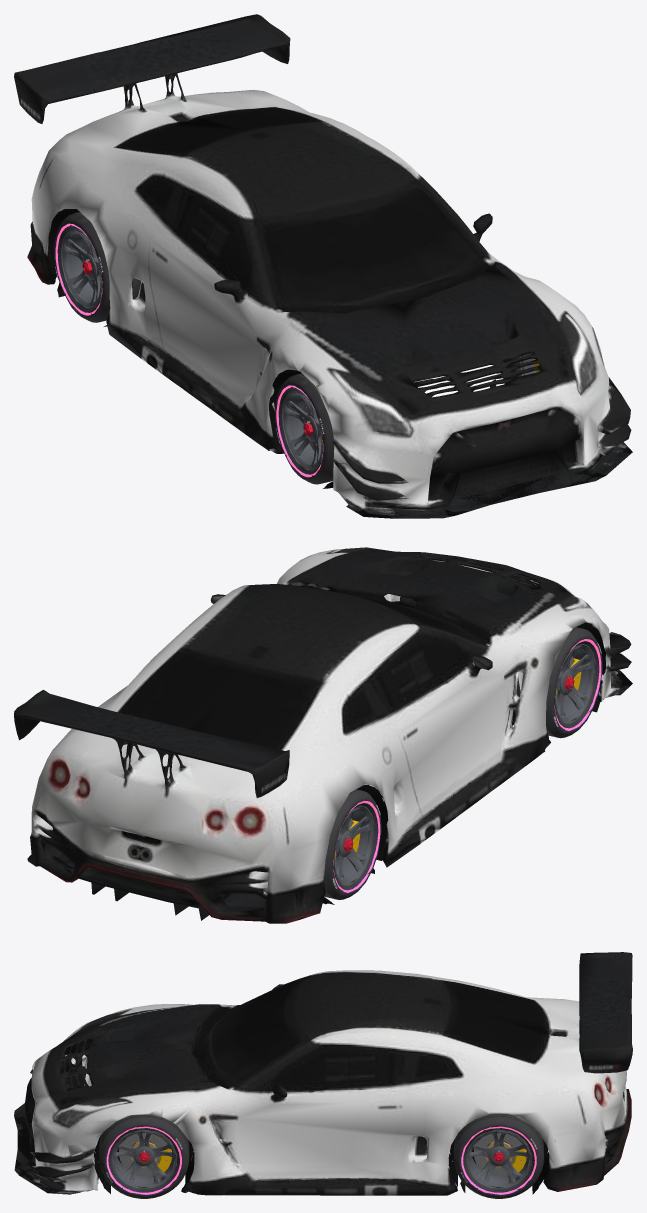
The model's file is gtr.glb.
3 views of the same model, one above another, from view 1: azimuth 30°, elevation 25°; view 2: azimuth 150°, elevation 25°; view 3: azimuth 270°, elevation 25° (orthographic). The views are drawn at different scales.
Visible parts, largest first — view 1: NissanGTR_Body, FL_GT3_TireRubber, FL_GT3_AlloyRim, RL_GT3_AlloyRim, RL_GT3_TireRubber; view 2: NissanGTR_Body, RL_GT3_AlloyRim, FL_GT3_AlloyRim, FL_GT3_TireRubber, RL_GT3_TireRubber; view 3: NissanGTR_Body, RR_GT3_TireRubber, FR_GT3_TireRubber, FR_GT3_AlloyRim, RR_GT3_AlloyRim, FR_GT3_BrakeDisc, RR_GT3_BrakeDisc, RR_GT3_SidewallStripe, FR_GT3_SidewallStripe.
Boxes of the visible parts, x1=… form: NissanGTR_Body: x1=14, y1=14, x2=632, y2=518; FL_GT3_TireRubber: x1=275, y1=373, x2=334, y2=484; FL_GT3_AlloyRim: x1=281, y1=390, x2=322, y2=470; RL_GT3_AlloyRim: x1=61, y1=229, x2=101, y2=309; RL_GT3_TireRubber: x1=54, y1=212, x2=141, y2=322; NissanGTR_Body: x1=14, y1=547, x2=632, y2=923; RL_GT3_AlloyRim: x1=333, y1=805, x2=374, y2=886; FL_GT3_AlloyRim: x1=555, y1=644, x2=595, y2=724; FL_GT3_TireRubber: x1=514, y1=627, x2=602, y2=738; RL_GT3_TireRubber: x1=323, y1=789, x2=381, y2=899; NissanGTR_Body: x1=14, y1=952, x2=632, y2=1195; RR_GT3_TireRubber: x1=454, y1=1113, x2=543, y2=1198; FR_GT3_TireRubber: x1=99, y1=1114, x2=189, y2=1198; FR_GT3_AlloyRim: x1=111, y1=1129, x2=176, y2=1189; RR_GT3_AlloyRim: x1=466, y1=1129, x2=531, y2=1189; FR_GT3_BrakeDisc: x1=119, y1=1132, x2=167, y2=1176; RR_GT3_BrakeDisc: x1=473, y1=1132, x2=521, y2=1176; RR_GT3_SidewallStripe: x1=461, y1=1126, x2=536, y2=1194; FR_GT3_SidewallStripe: x1=106, y1=1126, x2=181, y2=1194.
Bounding box in the file's own units: 1.9 × 1.21 × 4.53.
Materials: 11 (1 with a texture image).
